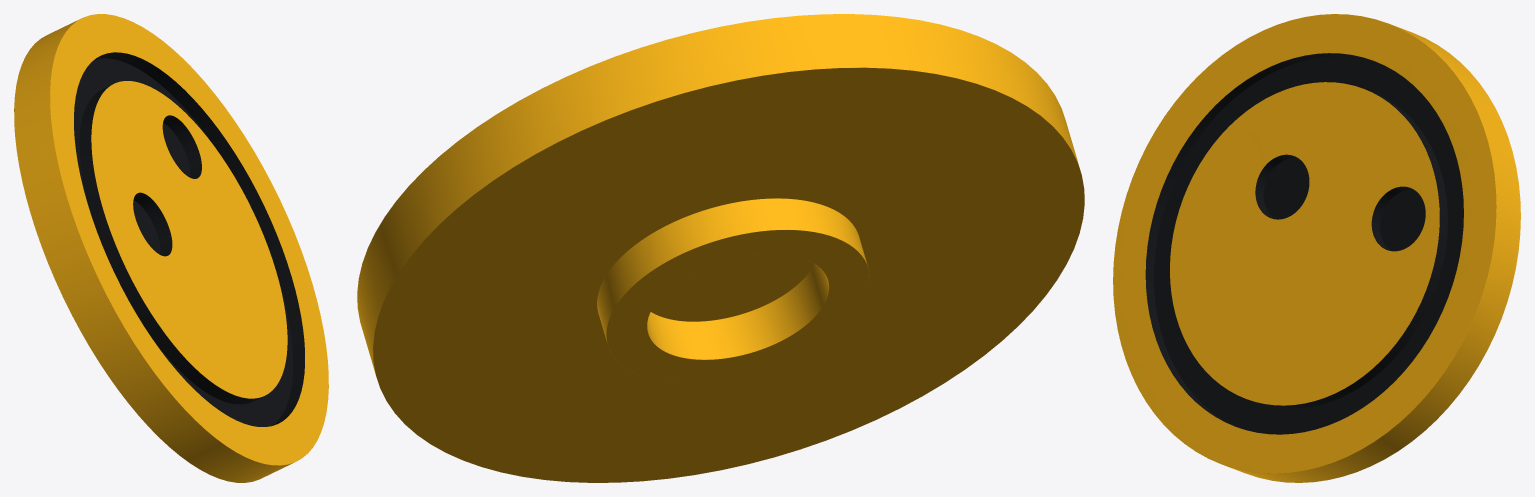
File: menu-cap.glb
3 views of the same model, side by side, from view 1: azimuth 30°, elevation 25°; view 2: azimuth 150°, elevation 25°; view 3: azimuth 270°, elevation 25° (orthographic). The views are drawn at different scales.
Parts seen in each view (by area): view 1: Bouton — jaune solaire; view 2: Bouton — jaune solaire; view 3: Bouton — jaune solaire.
Boxes of the visible parts, left/top/right/bottom form: Bouton — jaune solaire: left=14, top=14, right=328, bottom=482; Bouton — jaune solaire: left=357, top=14, right=1084, bottom=482; Bouton — jaune solaire: left=1113, top=14, right=1520, bottom=482.
Size of the model in its own units: 1.68 by 1.79 by 1.73.
